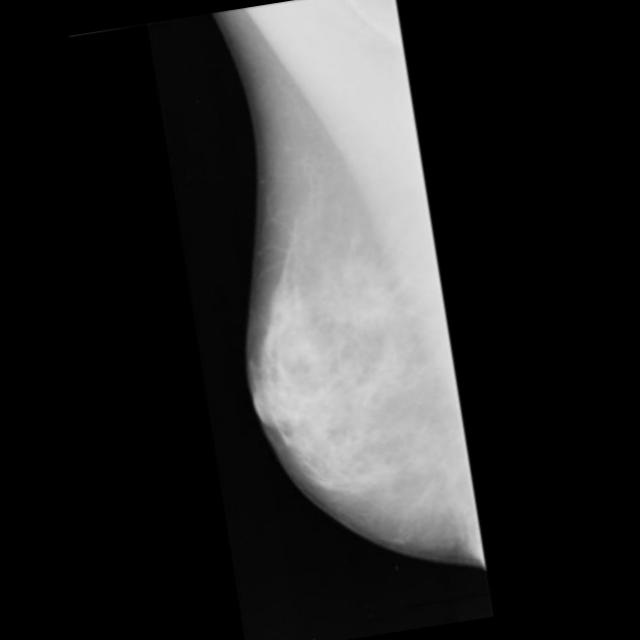SPIC: (342, 280, 399, 338)
